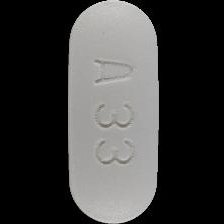16714-400: (0, 0, 224, 224)
